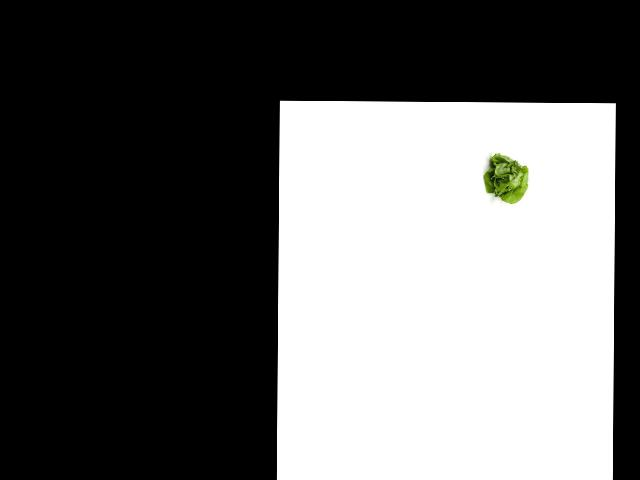lettuce: (480, 152, 532, 204)
